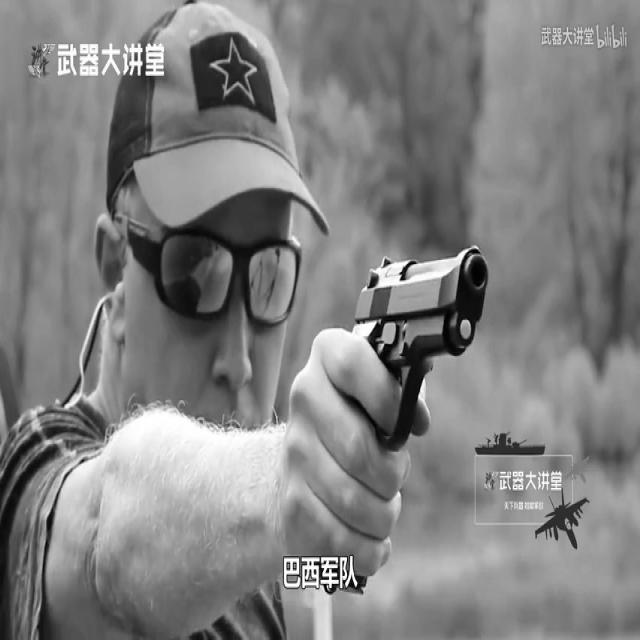Hand-Gun: (344, 167, 521, 512)
